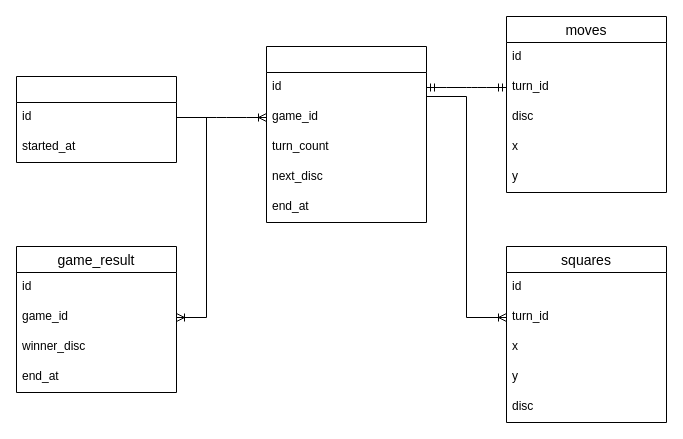
This 683x439 diagram has some shape labels left out. The box of each missing label's shape, as (x1, y1, x2, y2) in pixels:
games: (16, 76, 176, 162)
turns: (266, 46, 426, 222)
